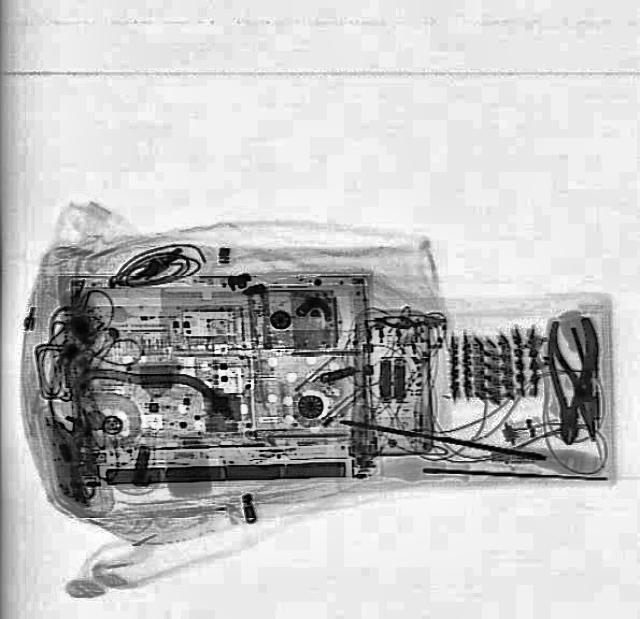Pliers: (548, 314, 618, 444), (543, 316, 597, 444)
